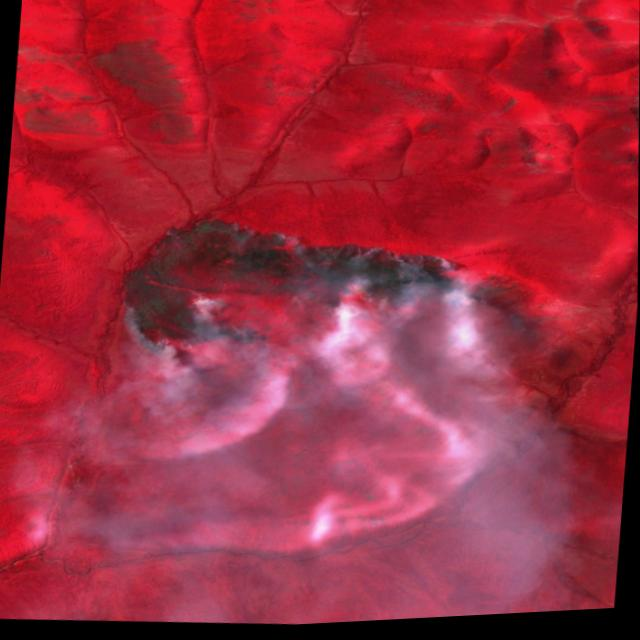fire: (108, 186, 507, 388)
